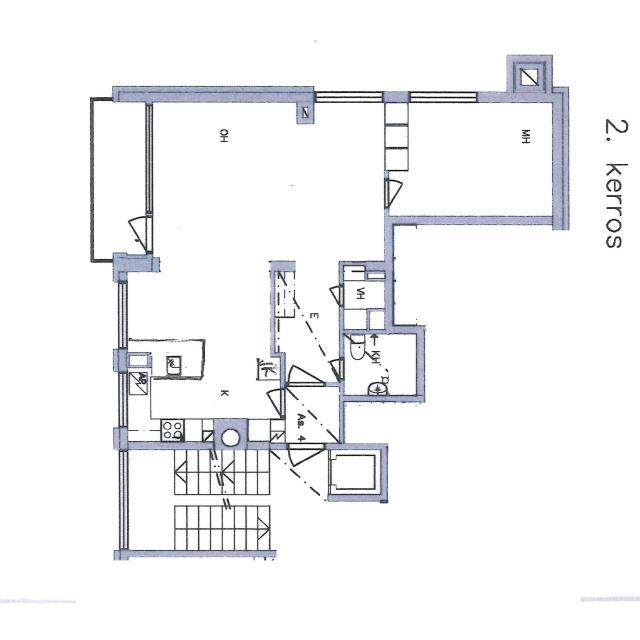door: (110, 217, 153, 251), (289, 443, 324, 484), (289, 349, 324, 387), (384, 180, 418, 207), (317, 359, 344, 381), (318, 286, 344, 307)
